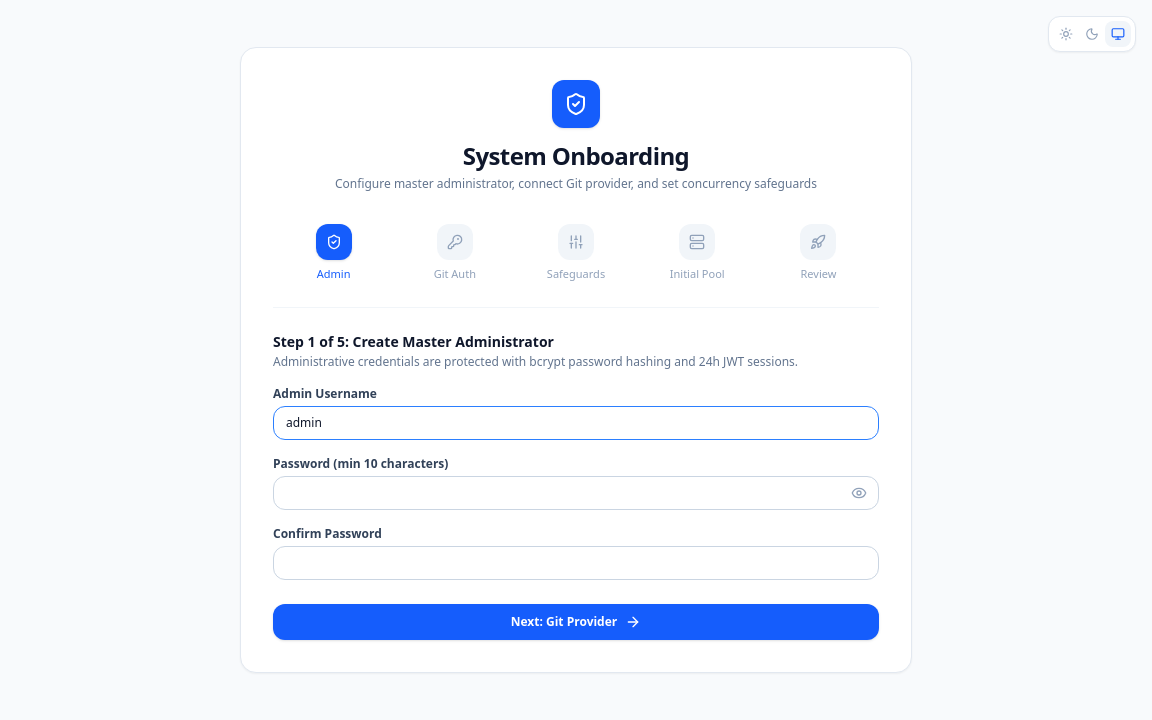
OnboardingPage (Full 5 Steps) › enforces password length and confirmation in Step 1
The image size is (1152, 720).
// Short password
Type "short" into the password field labelled "Password (min 10 characters)".
click(576, 493); type("short")  # box [273,476,879,510]
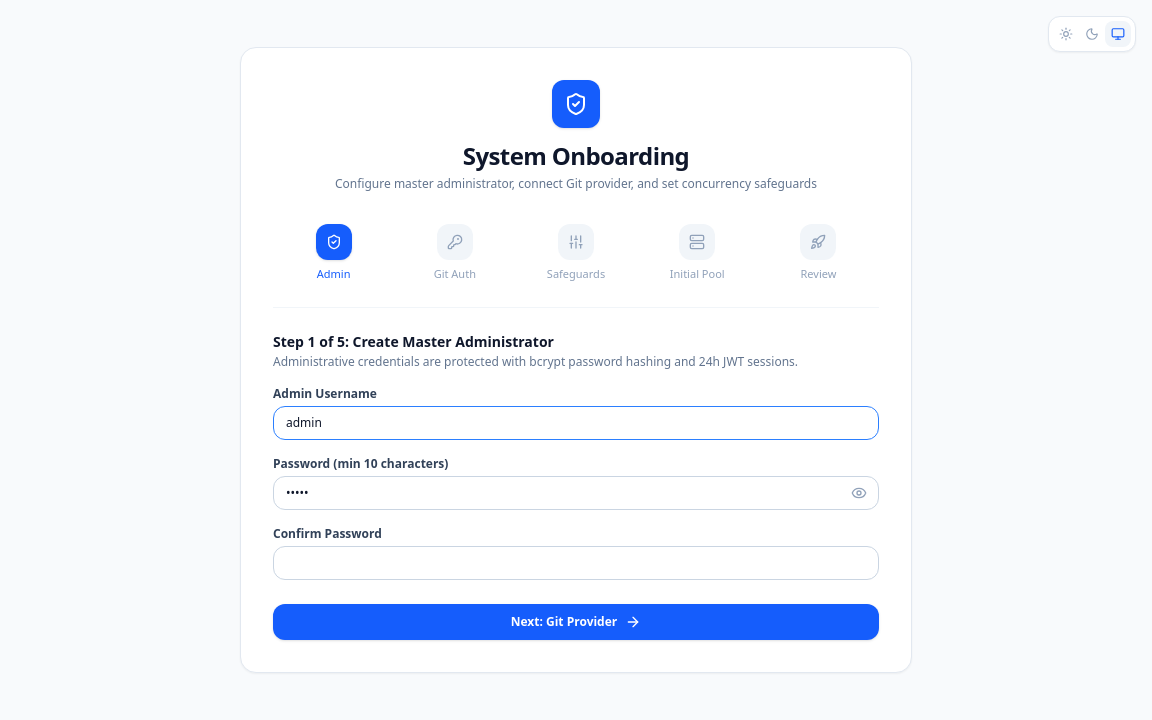
Type "short" into the password field labelled "Confirm Password".
click(576, 563); type("short")  # box [273,546,879,580]
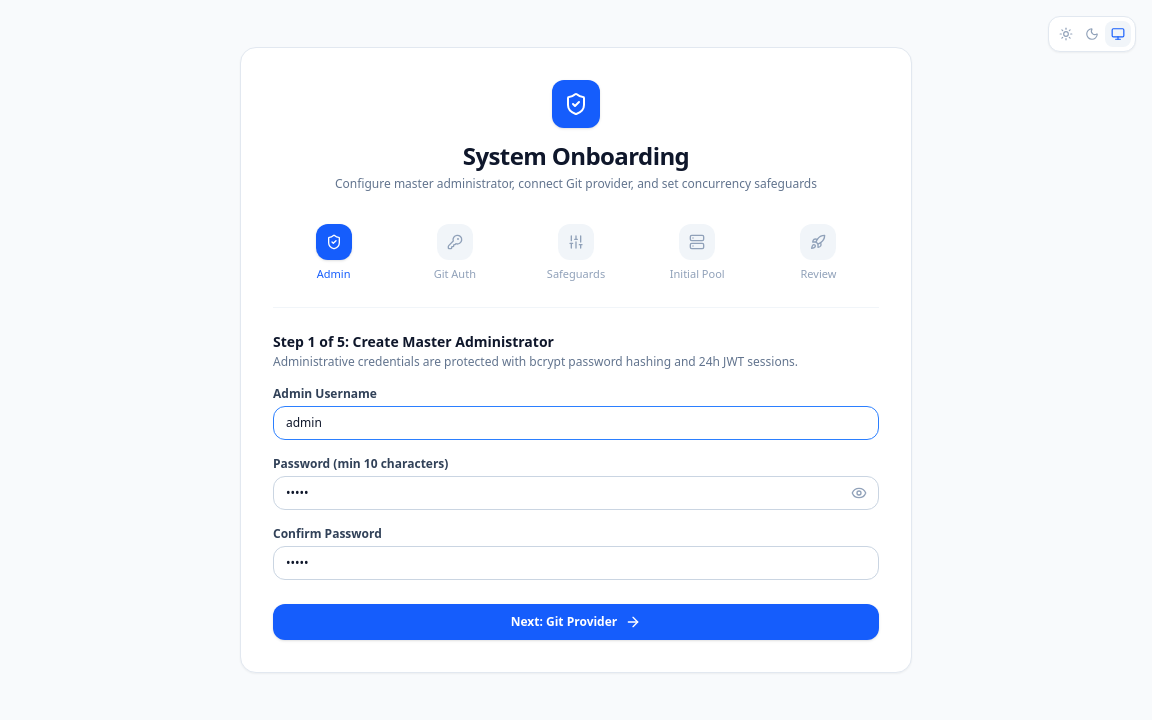
Click the button "Next: Git Provider".
click(576, 622)  # box [273,604,879,640]
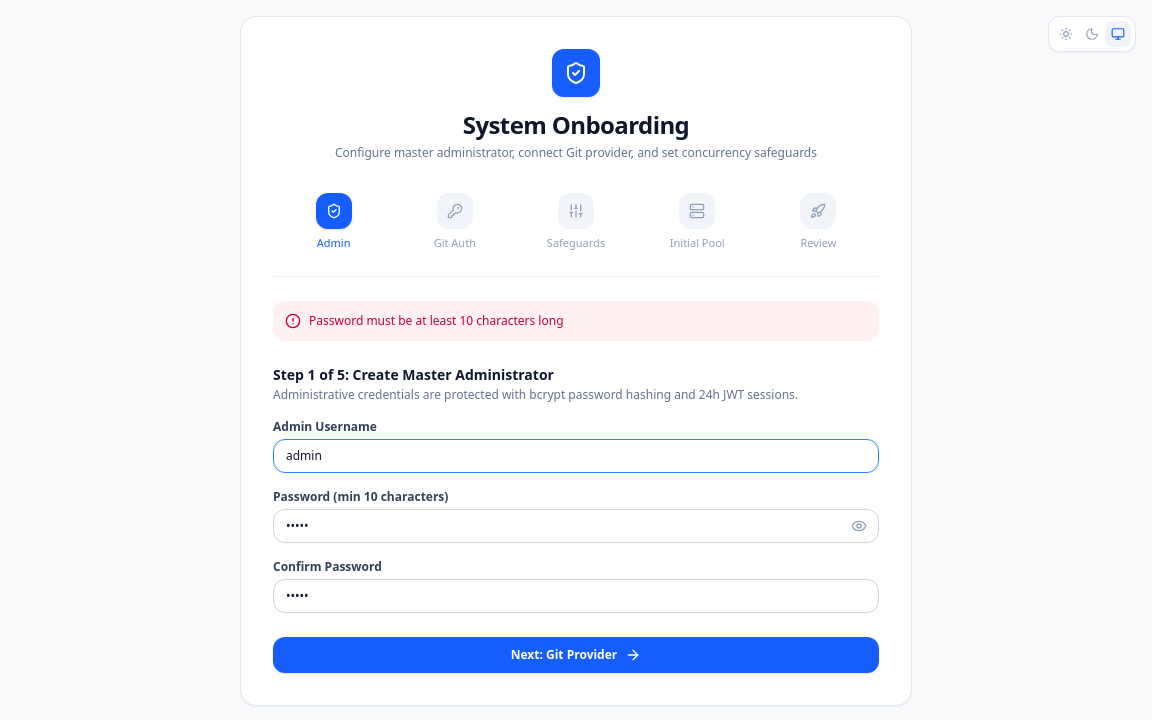
Expected: the text "Password must be at least 10 characters long" is shown, [309,312,564,328]
// Mismatched passwords
Type "validpassword1" into the password field labelled "Password (min 10 characters)".
click(576, 526); type("validpassword1")  # box [273,508,879,542]
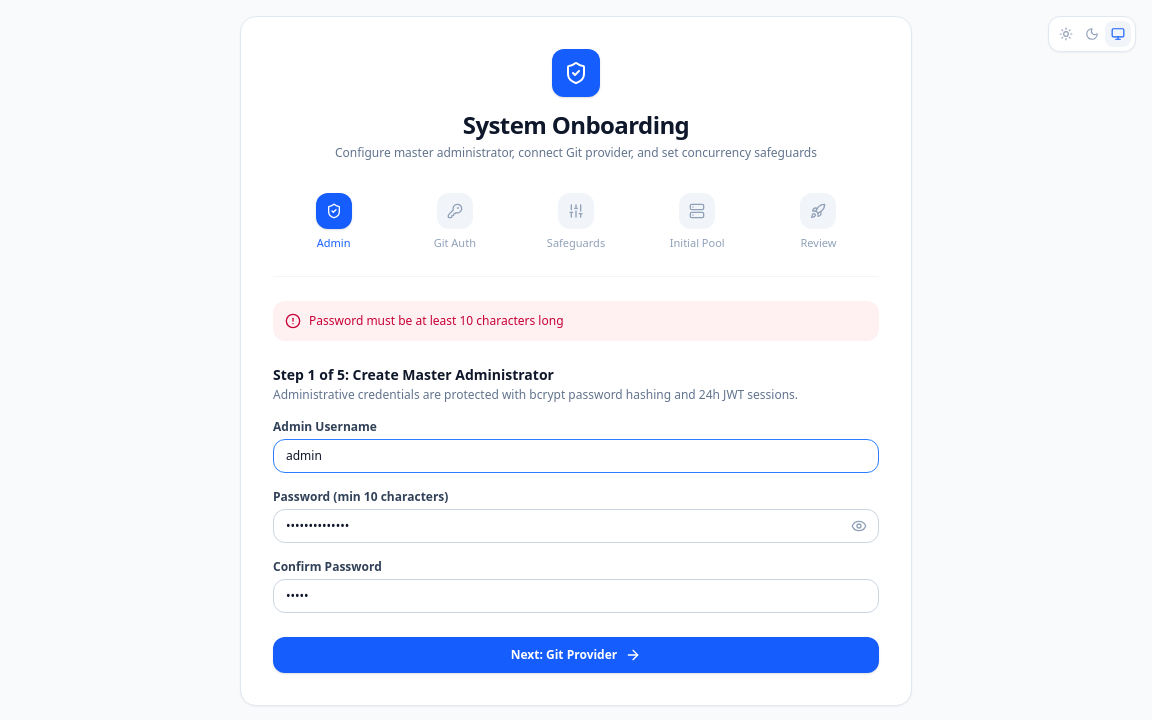
Type "validpassword2" into the password field labelled "Confirm Password".
click(576, 596); type("validpassword2")  # box [273,578,879,612]
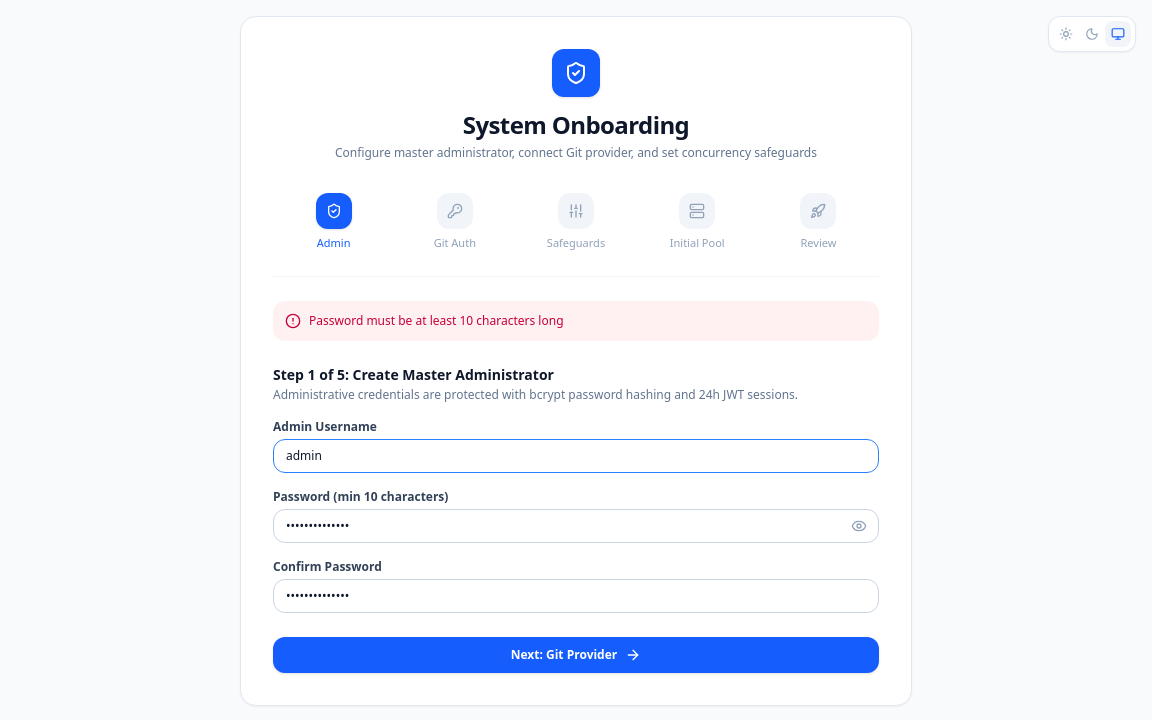
Click the button "Next: Git Provider".
click(576, 654)  # box [273,636,879,672]
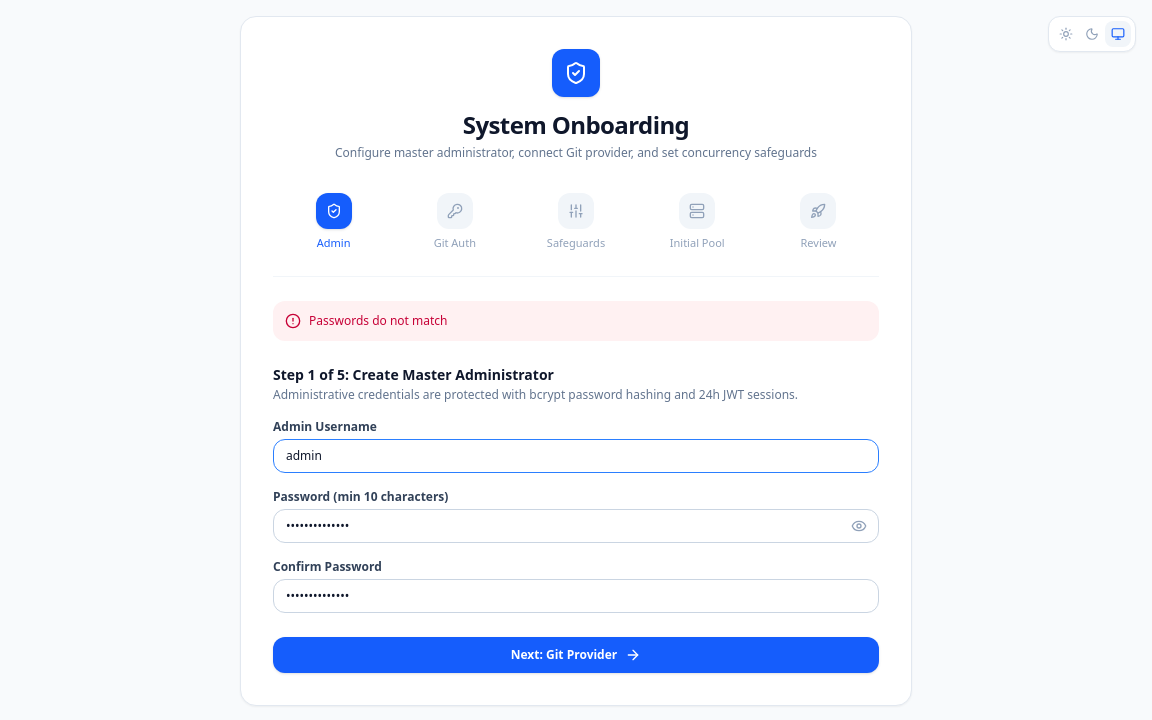
Expected: the text "Passwords do not match" is shown, [309,312,448,328]
